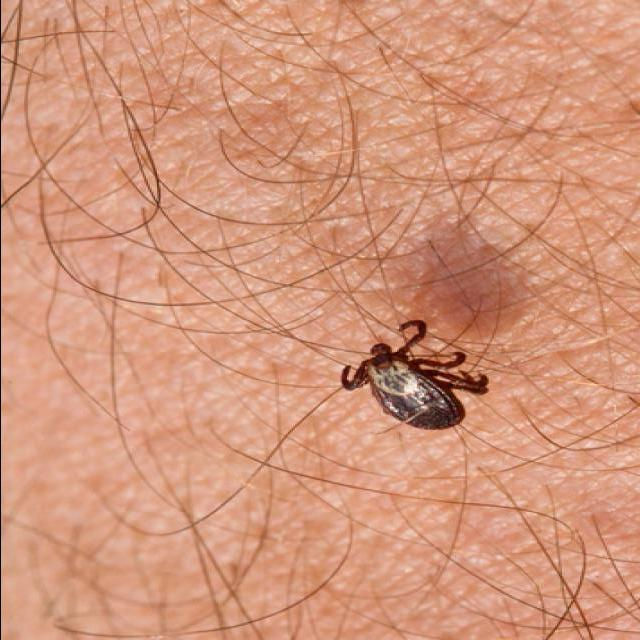Dermacentor Reticulatus-M: (341, 319, 488, 430)
